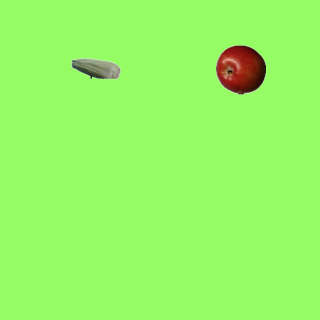Apple Braeburn: (215, 44, 265, 94)
Corn Husk: (70, 43, 120, 93)
